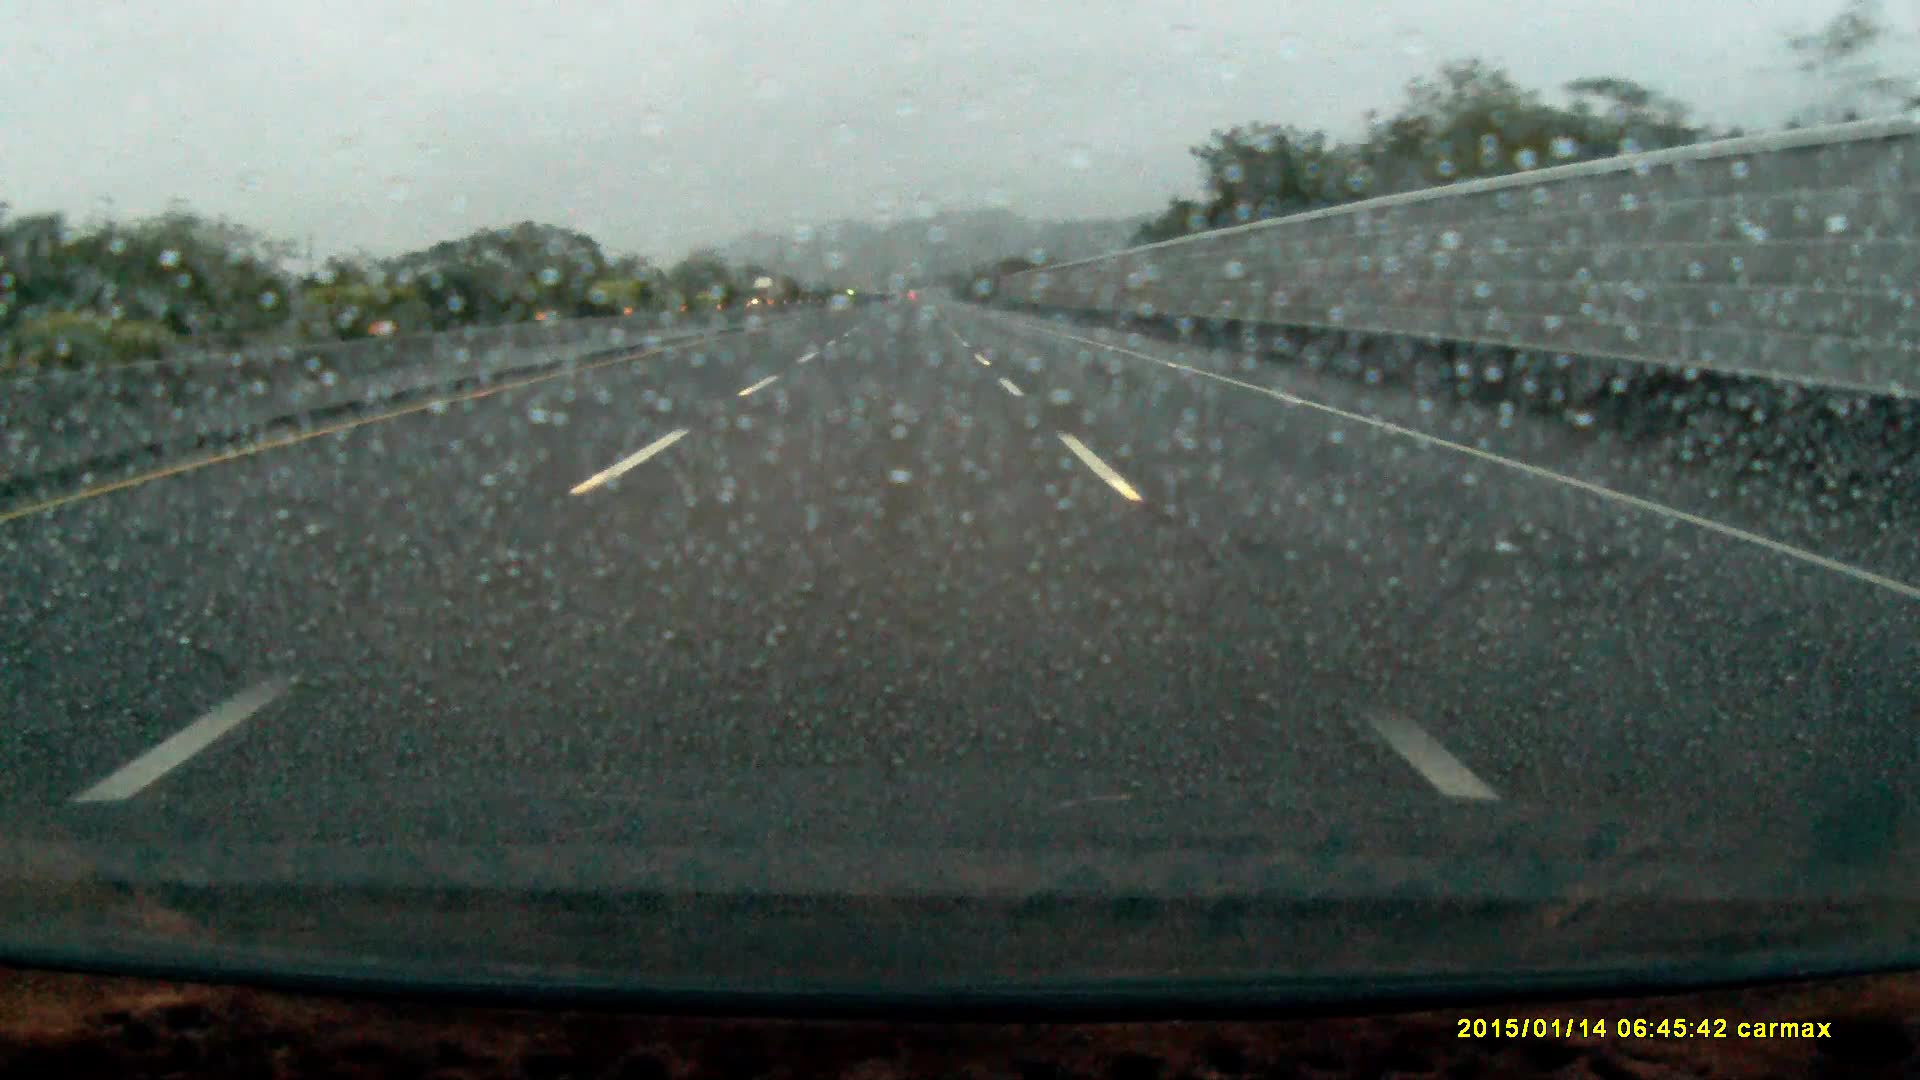vehicle: (752, 277, 782, 307)
